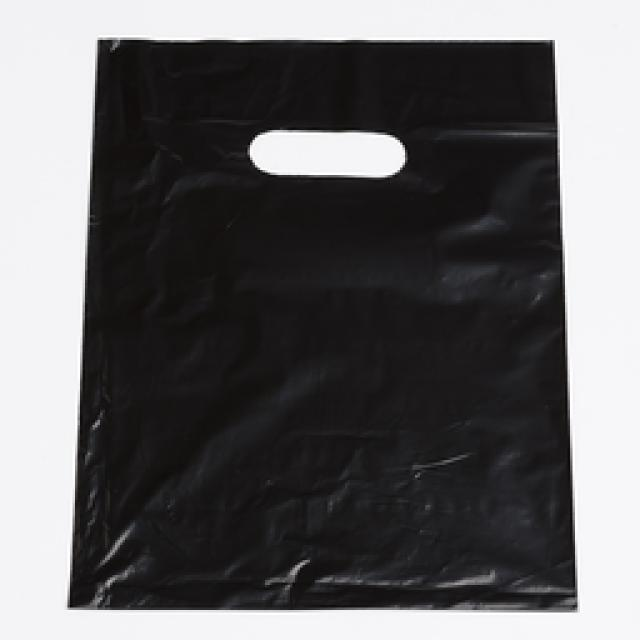plastic: (68, 40, 572, 610)
